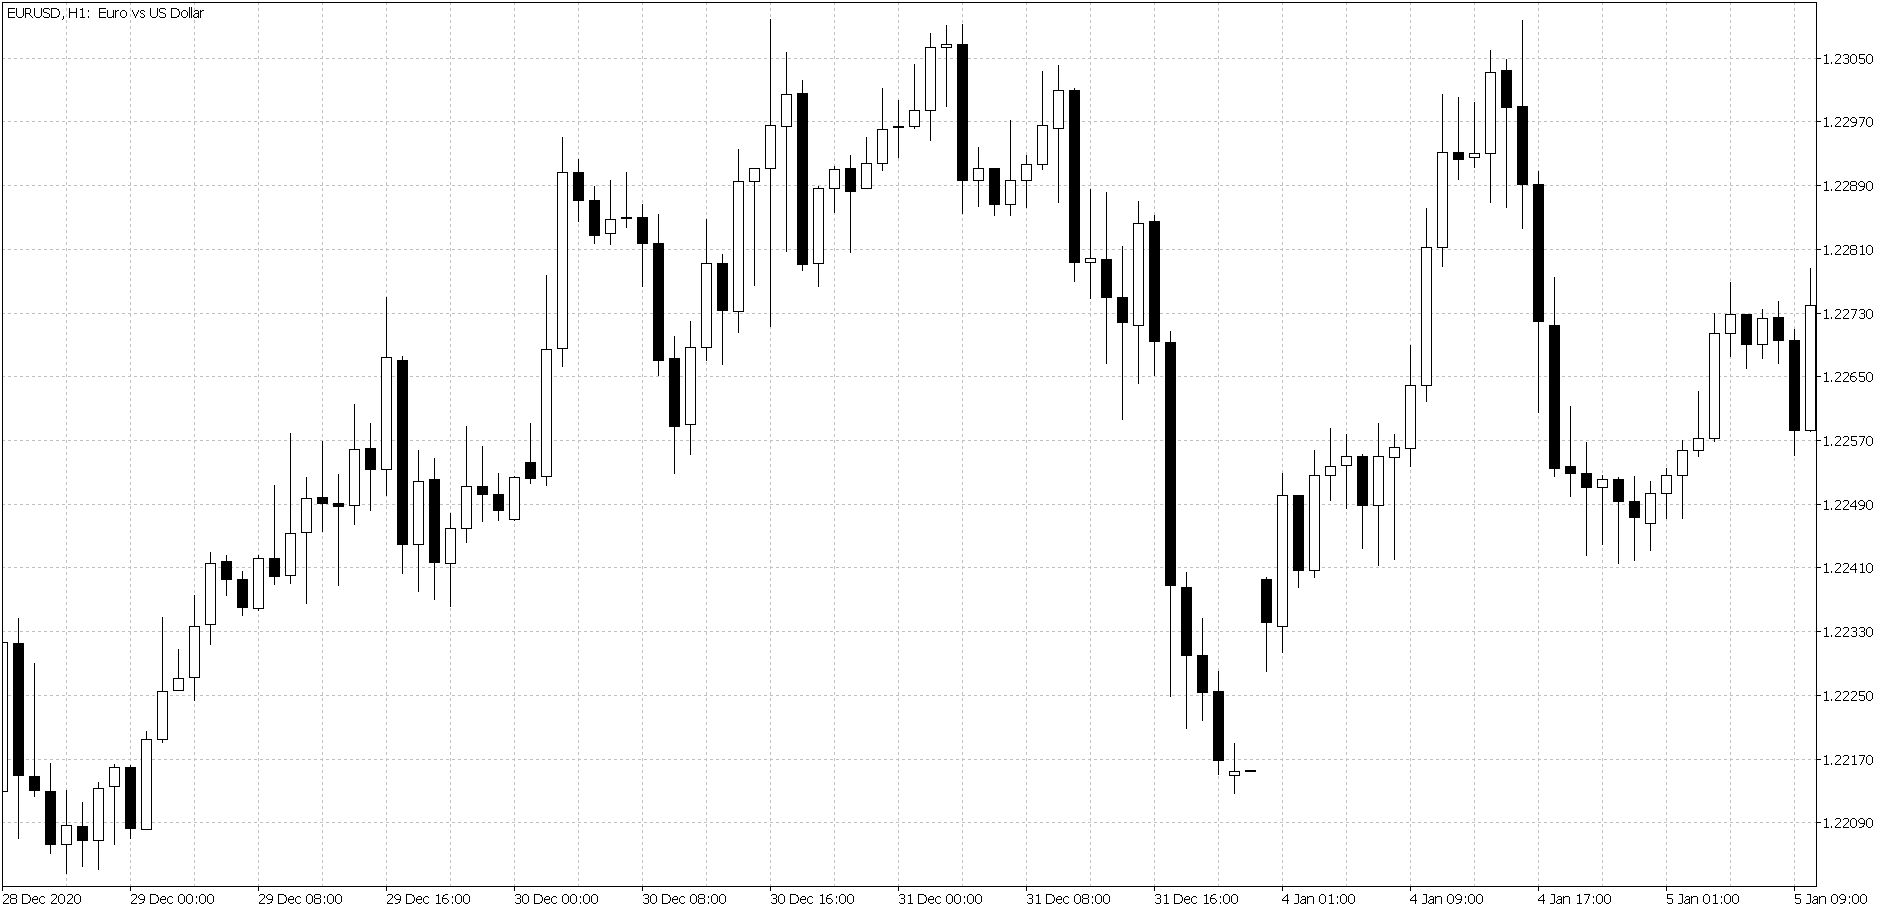hammer: (106, 753, 121, 845)
headAndShoulders: (719, 11, 1105, 260)
